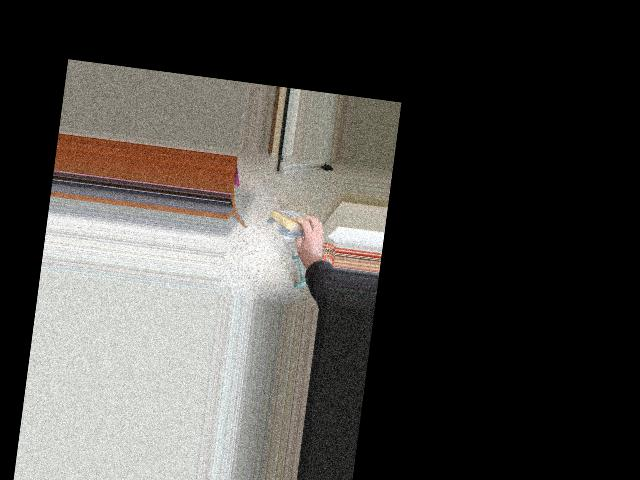cheese: (265, 207, 314, 235)
